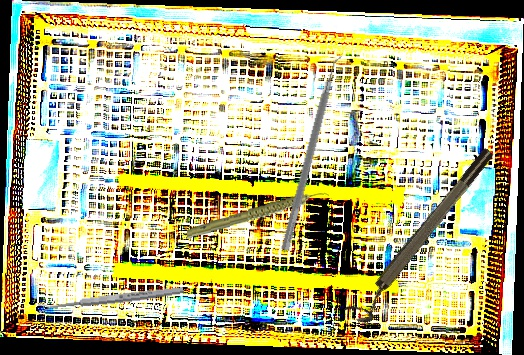Fixation Ring: (344, 145, 504, 328)
Handpiece: (184, 190, 332, 240)
Spatula Surgical: (280, 52, 348, 254)
Surgical Spoon: (37, 285, 185, 313)
